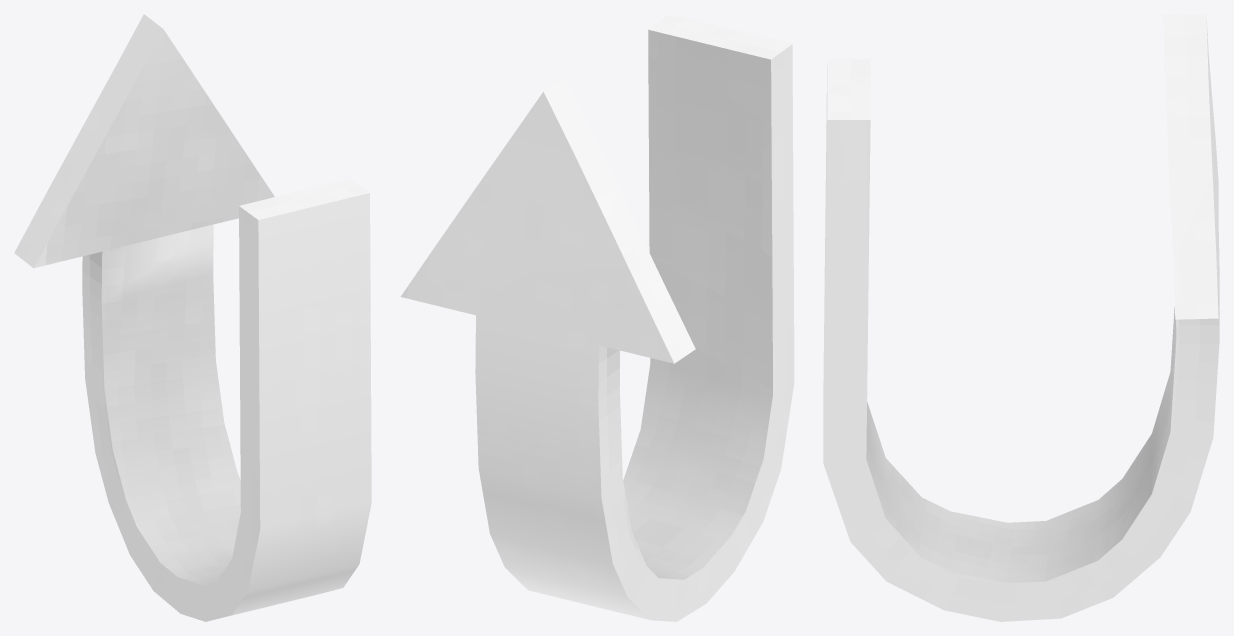
File: ArrowBack.glb
3 renders of one model, left to right at view 1: azimuth 30°, elevation 25°; view 2: azimuth 150°, elevation 25°; view 3: azimuth 270°, elevation 25°, orthographic. The views are drawn at different scales.
Visible parts, largest first — view 1: ArrowBack; view 2: ArrowBack; view 3: ArrowBack.
Boxes of the visible parts, x1,y1,x2,y2 form: ArrowBack: [14, 14, 371, 621]; ArrowBack: [400, 14, 794, 621]; ArrowBack: [823, 14, 1219, 621].
Bounding box in the file's own units: 0.099 × 0.1975 × 0.1228.
Materials: 1 (1 with a texture image).
